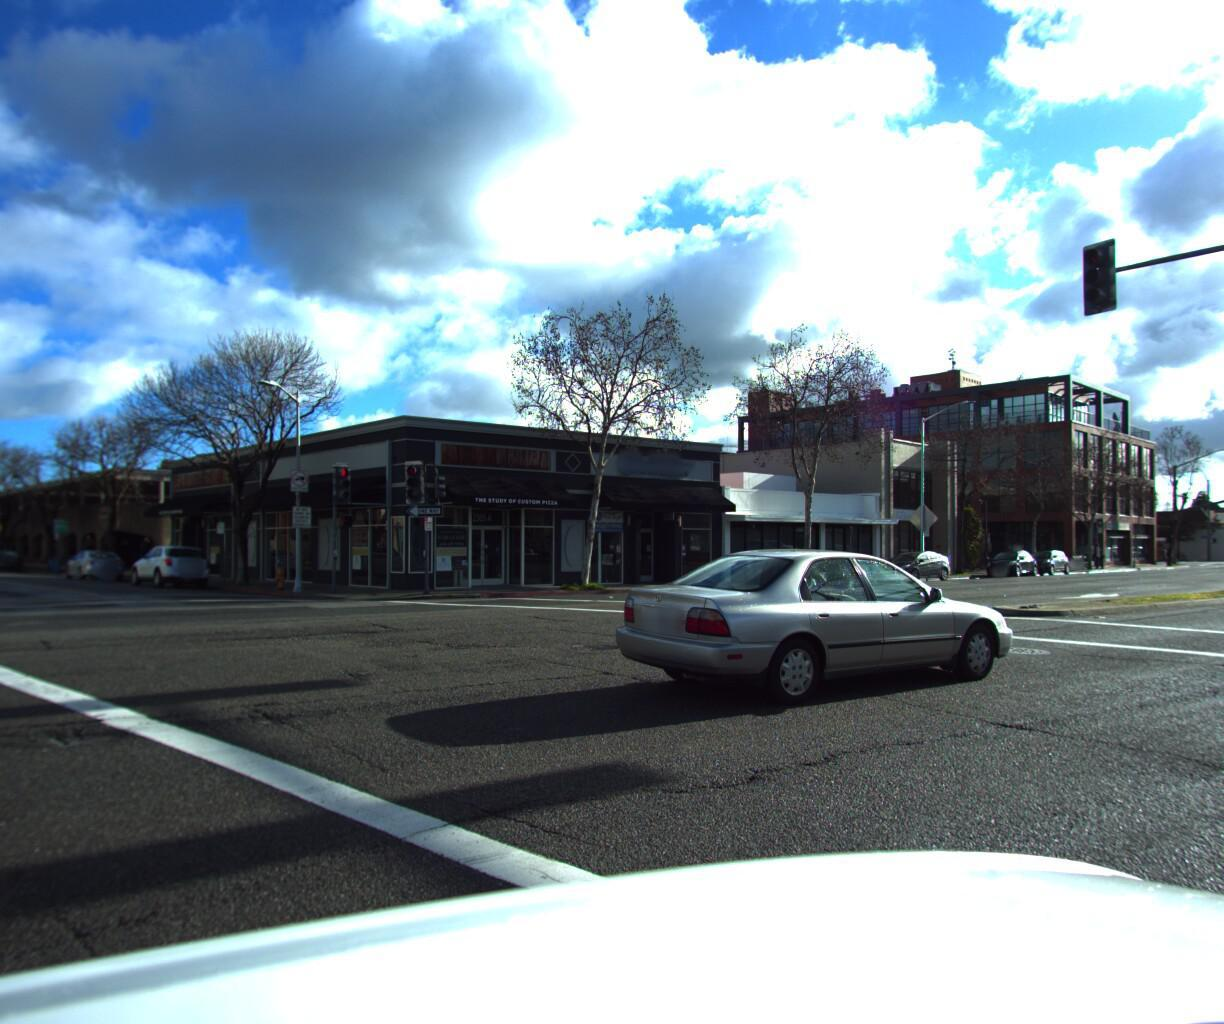car: (598, 539, 1033, 719), (127, 540, 224, 592), (866, 542, 955, 581), (59, 546, 136, 582), (973, 542, 1039, 573), (1009, 543, 1073, 570)
